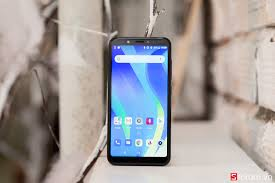vsmart: (105, 35, 171, 168)
